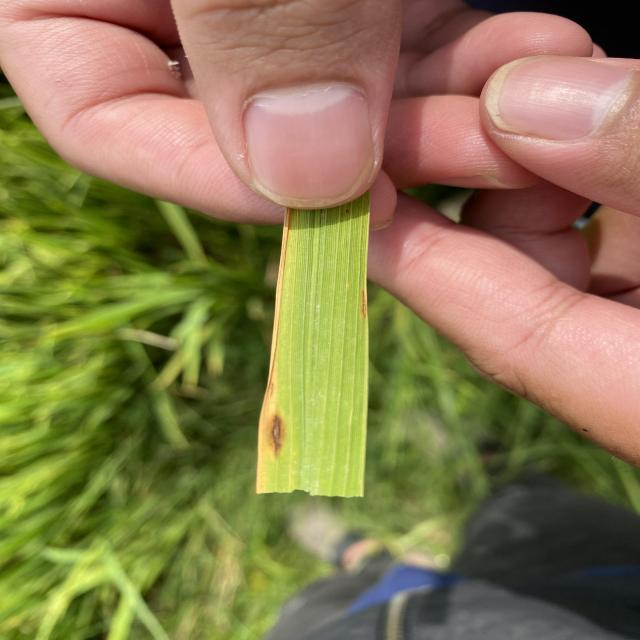Dom nau: (269, 412, 283, 459), (362, 290, 367, 319)
